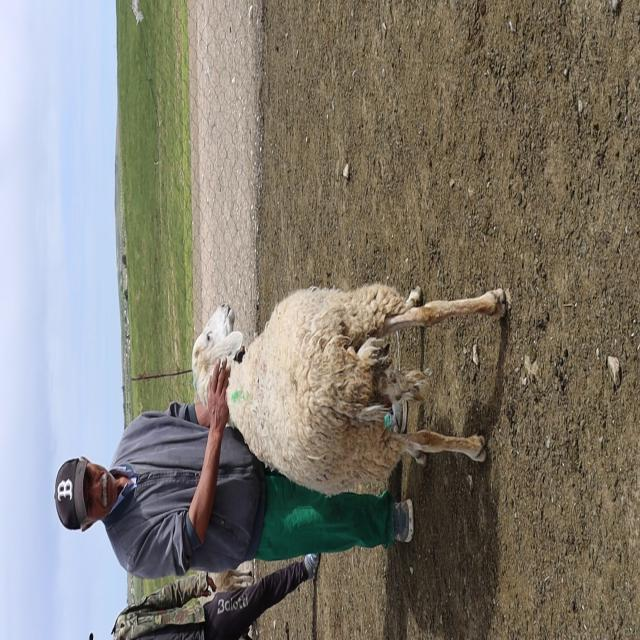Score_4: (192, 284, 508, 495)
